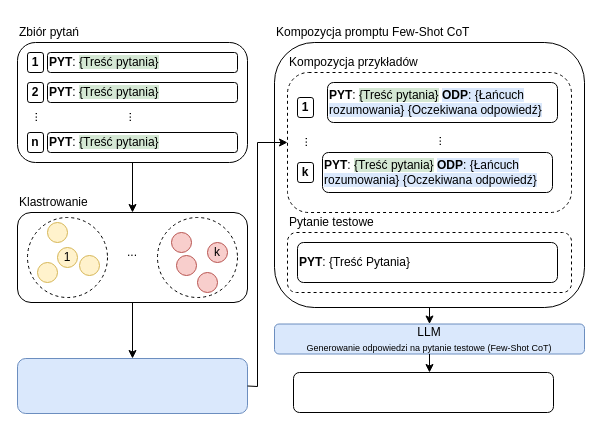
Some shapes in this 602 by 431 pixel diagram are drawn without their labels. Here are the shapes that lost their labels. From the top down, the centre of each, then its label:
At point (132, 386): "LLM Generowanie łańcuchów rozumowania na bazie reprezentantów (Zero-Shot CoT)".
At point (423, 392): "ODP: {Odpowiedź}".
